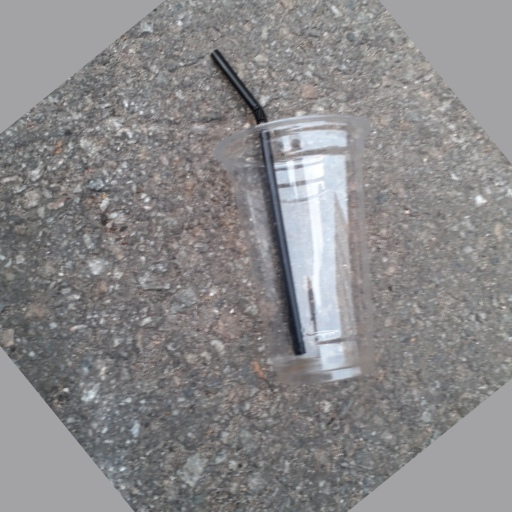Plastic_2: (204, 47, 380, 390)
